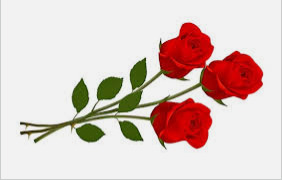RedRose: (156, 19, 214, 84), (150, 94, 214, 151), (201, 51, 265, 103)
